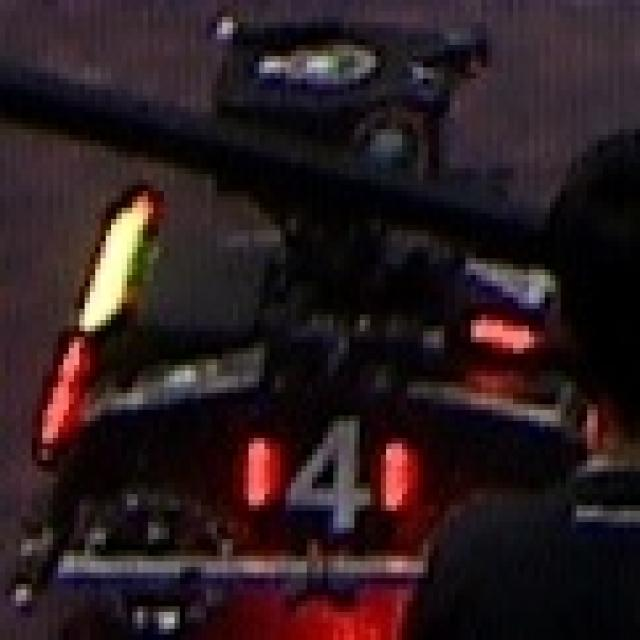R4: (222, 404, 418, 539), (452, 228, 574, 356)
